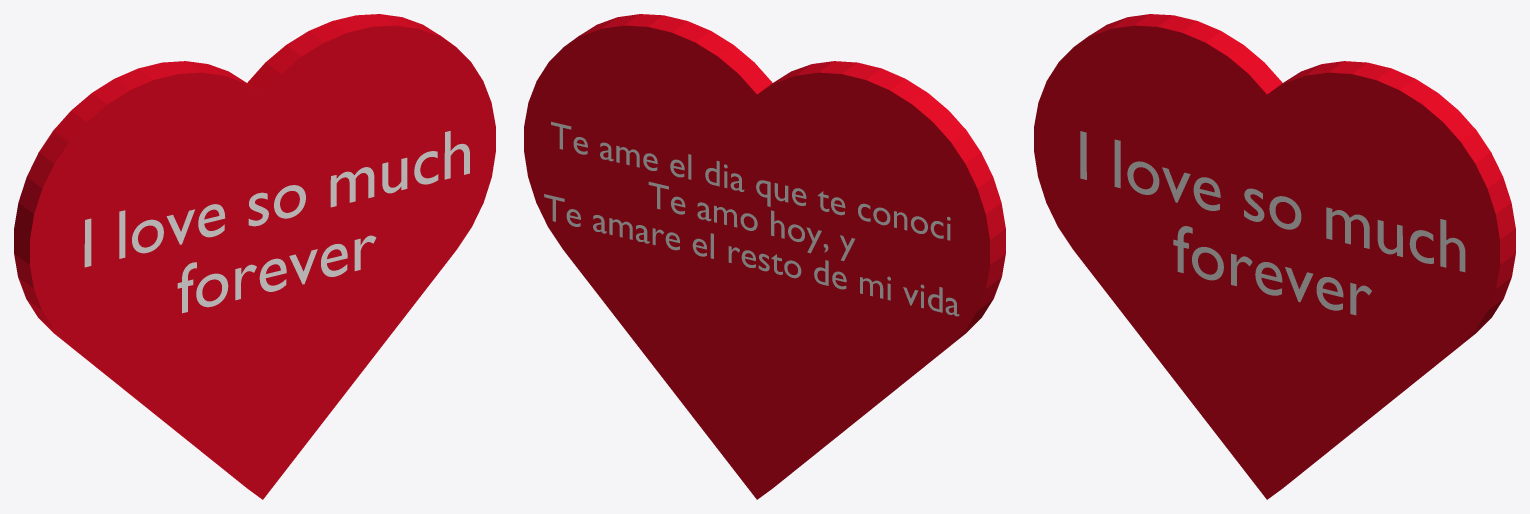
3 renders of one model, left to right at view 1: azimuth 30°, elevation 25°; view 2: azimuth 150°, elevation 25°; view 3: azimuth 330°, elevation 25°, orthographic.
Visible parts, largest first — view 1: Cube, Text; view 2: Cube, Text.001; view 3: Cube, Text.
Boxes of the visible parts, x1=… form: Cube: x1=14, y1=14, x2=495, y2=499; Text: x1=84, y1=131, x2=469, y2=313; Cube: x1=524, y1=14, x2=1005, y2=499; Text.001: x1=544, y1=121, x2=959, y2=316; Cube: x1=1034, y1=14, x2=1515, y2=499; Text: x1=1080, y1=131, x2=1465, y2=315.
Size of the model in its own units: 3.4 by 3.12 by 0.3387.
